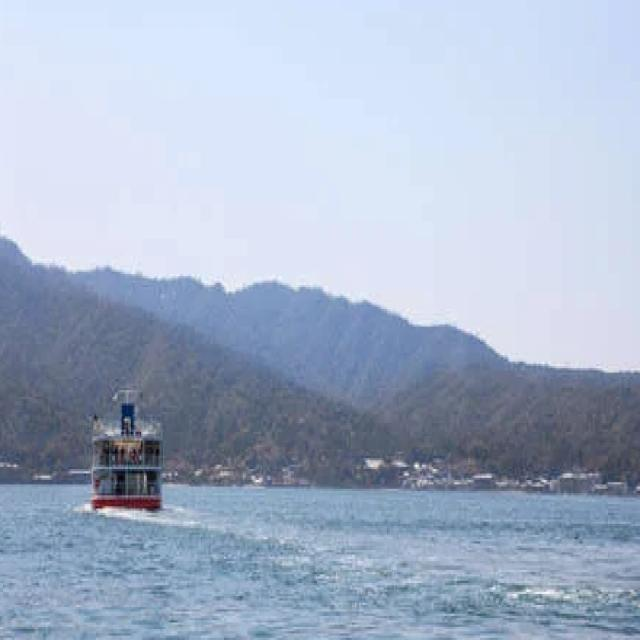passenger ship: (85, 360, 181, 506)
